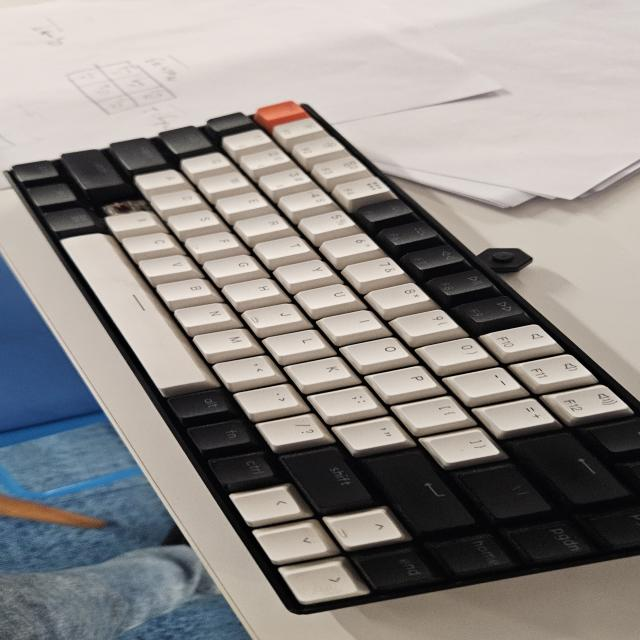C: (95, 196, 145, 215)
